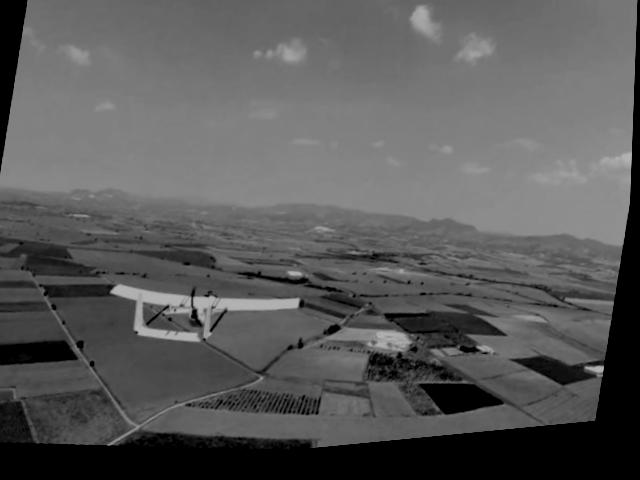hedef: (83, 250, 324, 384)
